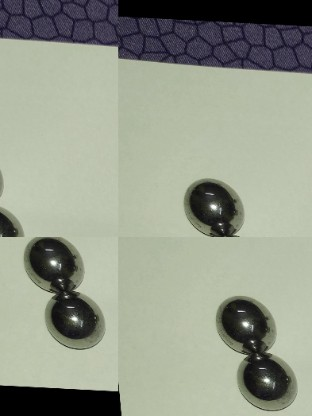ironball: (236, 349, 299, 416), (21, 234, 88, 296), (182, 171, 244, 237), (42, 291, 104, 352), (218, 297, 274, 353)
